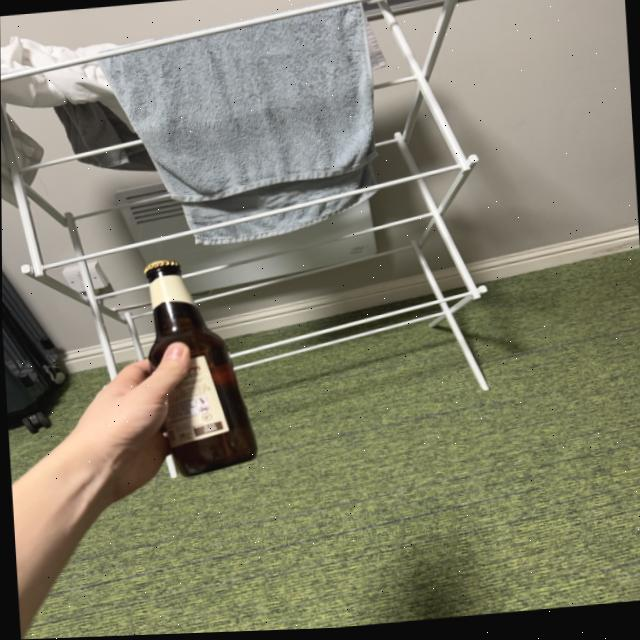beer: (141, 253, 257, 481)
